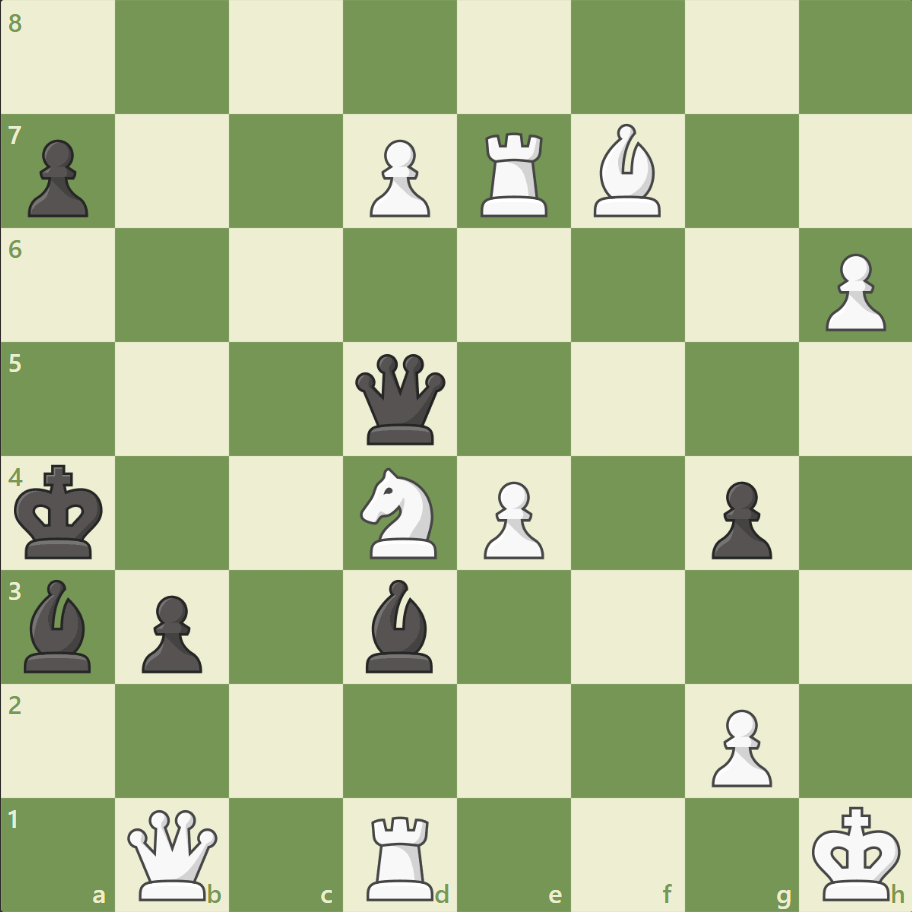B: (585, 120, 669, 222)
K: (806, 798, 906, 906)
N: (351, 461, 449, 564)
P: (474, 473, 549, 564), (701, 700, 776, 791), (361, 132, 435, 223), (815, 246, 889, 337)
Q: (124, 804, 223, 903)
R: (473, 125, 556, 222), (360, 806, 442, 904)
b: (17, 574, 101, 676), (358, 574, 442, 676)
k: (11, 458, 111, 566)
p: (20, 132, 95, 223), (701, 473, 776, 564), (133, 586, 208, 677)
q: (351, 349, 450, 449)
